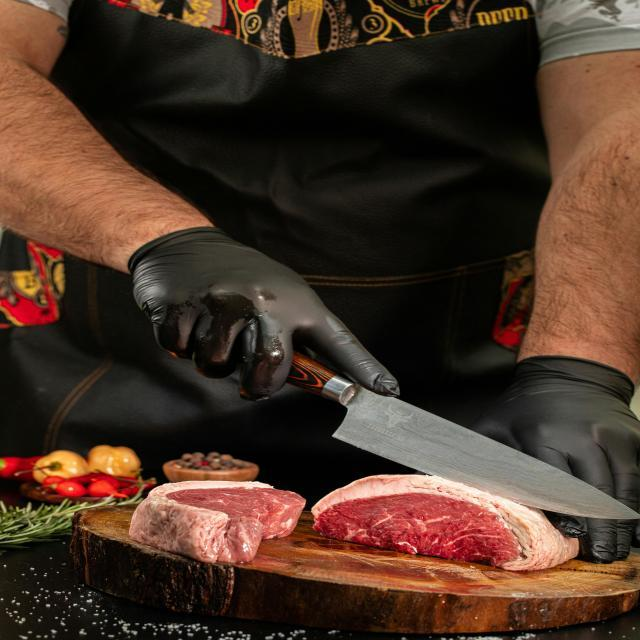Knife: (288, 352, 640, 519)
